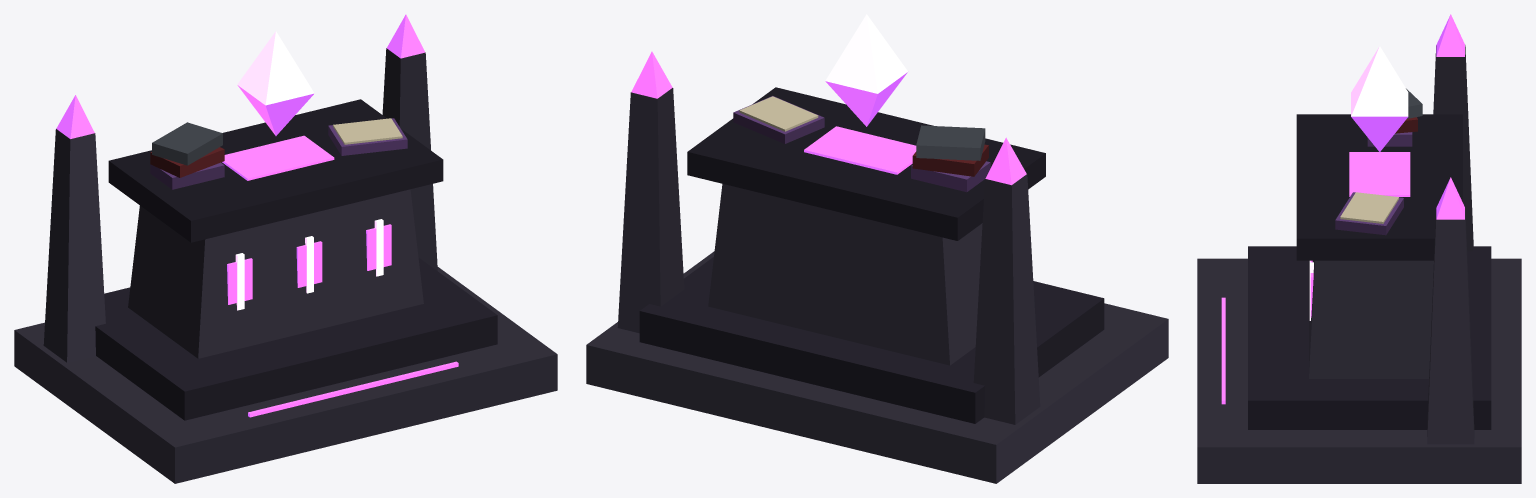
Rendered from void_altar.glb.
3 renders of one model, left to right at view 1: azimuth 30°, elevation 25°; view 2: azimuth 150°, elevation 25°; view 3: azimuth 270°, elevation 25°, orthographic. The views are drawn at different scales.
Visible parts, largest first — view 1: void_altar; view 2: void_altar; view 3: void_altar.
Boxes of the visible parts, left/top/right/bottom form: void_altar: left=14, top=14, right=557, bottom=483; void_altar: left=586, top=14, right=1168, bottom=483; void_altar: left=1197, top=14, right=1521, bottom=483.
Size of the model in its own units: 2.2 by 1.87 by 1.6.
